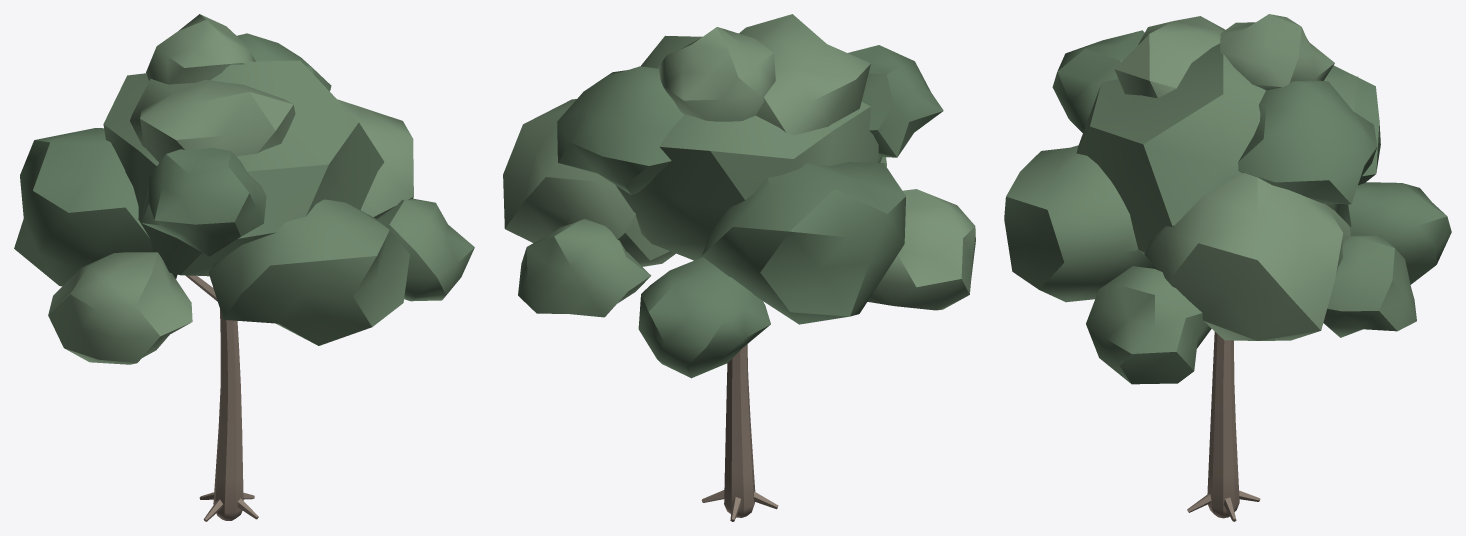
File: tree_oak.gltf
The picture shows the model from 3 angles, left to right: view 1: azimuth 30°, elevation 25°; view 2: azimuth 150°, elevation 25°; view 3: azimuth 270°, elevation 25°; orthographic projection. The views are drawn at different scales.
Parts seen in each view (by area): view 1: Body; view 2: Body; view 3: Body.
Boxes of the visible parts, x1,y1,x2,y2 form: Body: (14,14,474,521); Body: (503,14,975,521); Body: (1004,14,1451,521).
Bounding box in the file's own units: 8.79 × 10.18 × 8.24.
